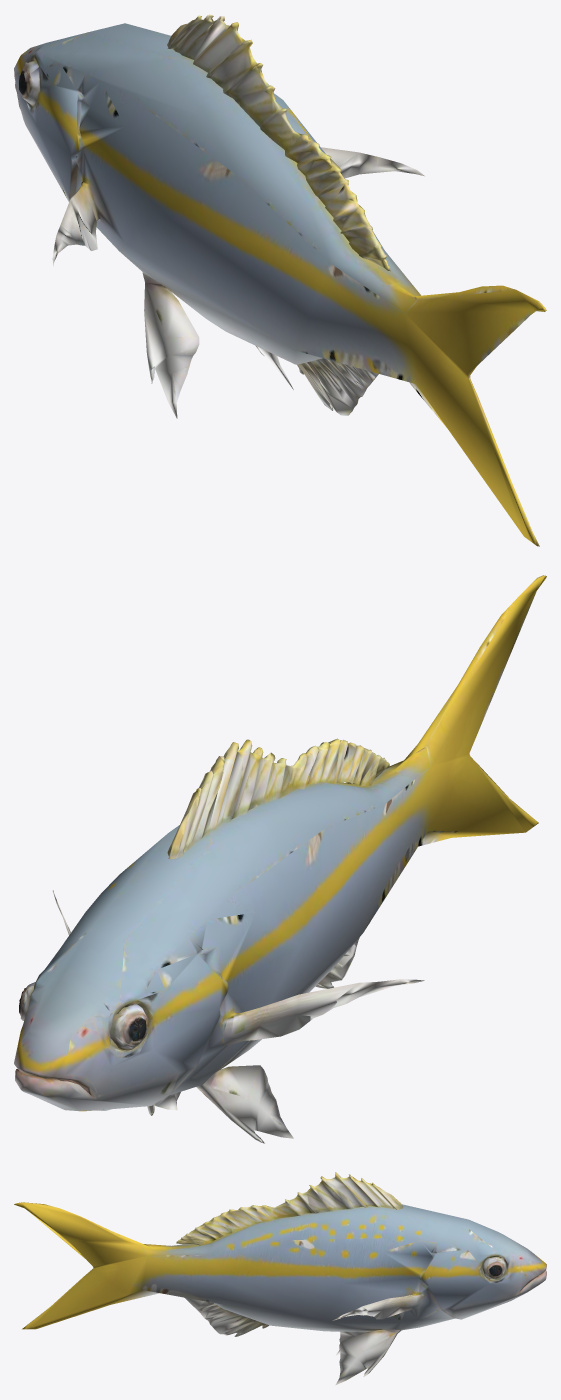
Rendered from geelstaart_snapper.glb.
The picture shows the model from 3 angles, top to bottom: view 1: azimuth 30°, elevation 25°; view 2: azimuth 150°, elevation 25°; view 3: azimuth 270°, elevation 25°; orthographic projection. The views are drawn at different scales.
Visible parts, largest first — view 1: tripo_node_1cbbd02d-2976-49f1-952e-0ab3b046c475; view 2: tripo_node_1cbbd02d-2976-49f1-952e-0ab3b046c475; view 3: tripo_node_1cbbd02d-2976-49f1-952e-0ab3b046c475.
Boxes of the visible parts, bbox=[...] form: tripo_node_1cbbd02d-2976-49f1-952e-0ab3b046c475: bbox=[14, 14, 546, 546]; tripo_node_1cbbd02d-2976-49f1-952e-0ab3b046c475: bbox=[14, 575, 546, 1143]; tripo_node_1cbbd02d-2976-49f1-952e-0ab3b046c475: bbox=[14, 1172, 546, 1385].
Bounding box in the file's own units: 0.3057 × 0.3 × 0.7335.
1 material, 1 textured.
